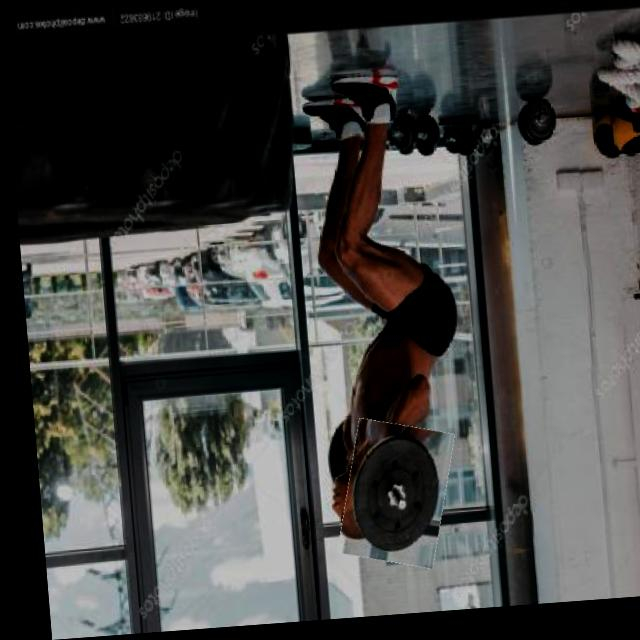barbell: (328, 424, 449, 575)
